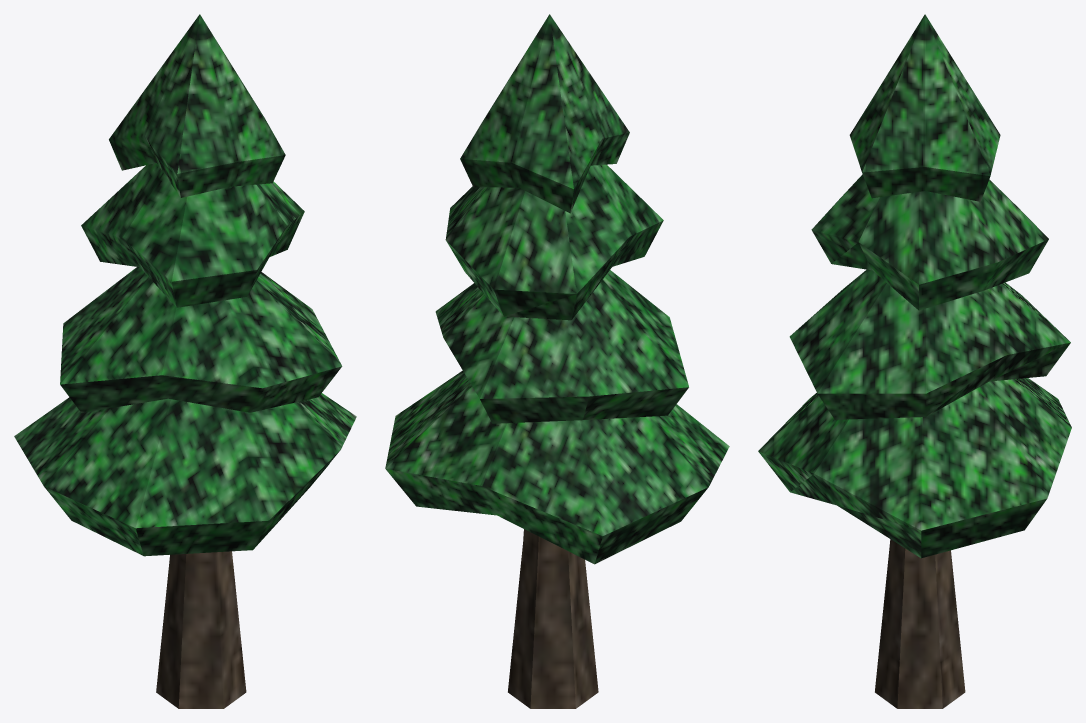
The model's file is Tree8.fbx.
3 views of the same model, side by side, from view 1: azimuth 30°, elevation 25°; view 2: azimuth 150°, elevation 25°; view 3: azimuth 270°, elevation 25° (orthographic).
Visible parts, largest first — view 1: trunk_08; view 2: trunk_08; view 3: trunk_08.
Boxes of the visible parts, bbox=[...] form: trunk_08: bbox=[14, 14, 356, 708]; trunk_08: bbox=[385, 14, 729, 708]; trunk_08: bbox=[758, 14, 1071, 708].
Bounding box in the file's own units: 4.23 × 8.74 × 3.66.
